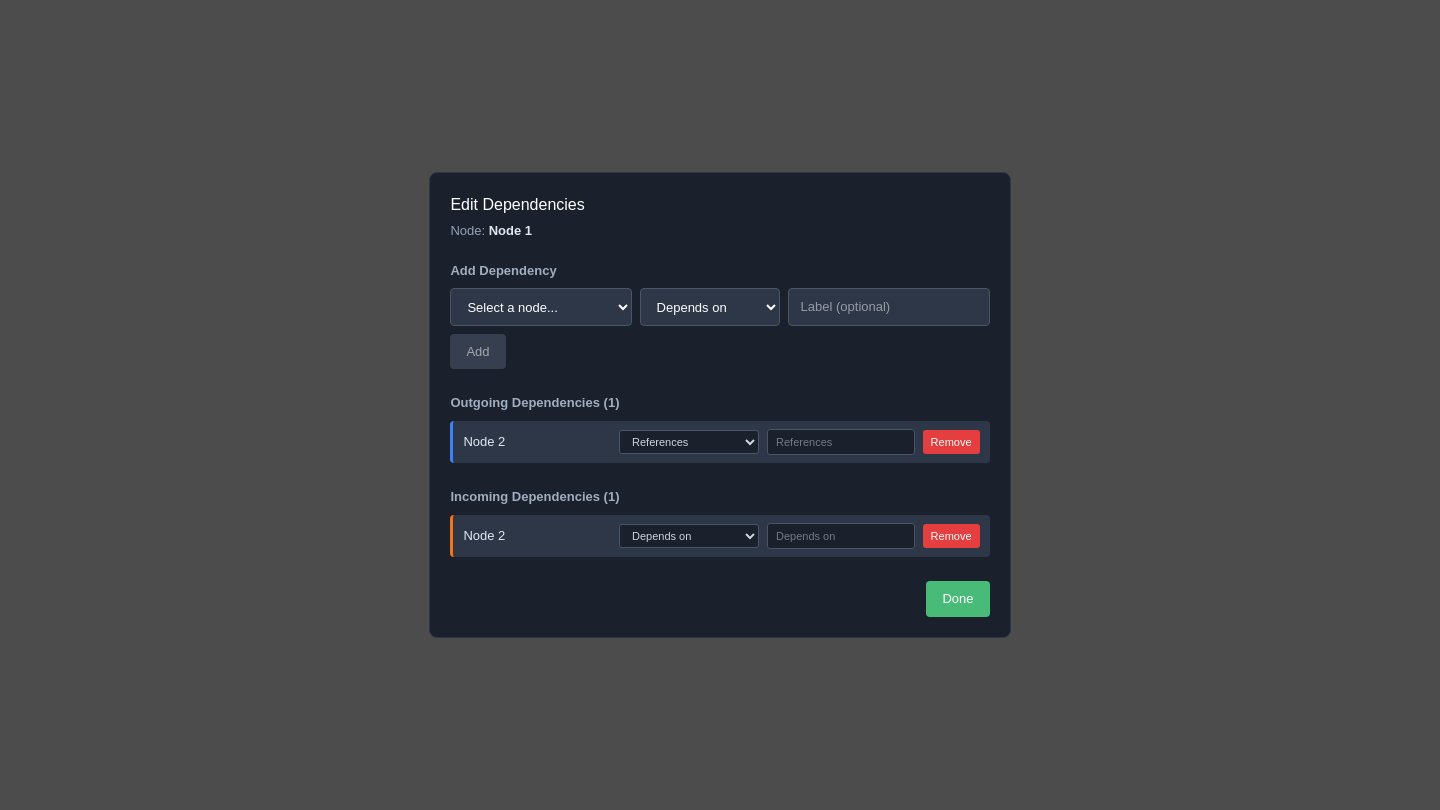
DependencyEditor › blocks relation changes that would create a cycle
The image size is (1440, 810).
Select "Depends on" in the dropdown named "relation to node 2". click: (689, 442)
box: [619, 430, 759, 454]
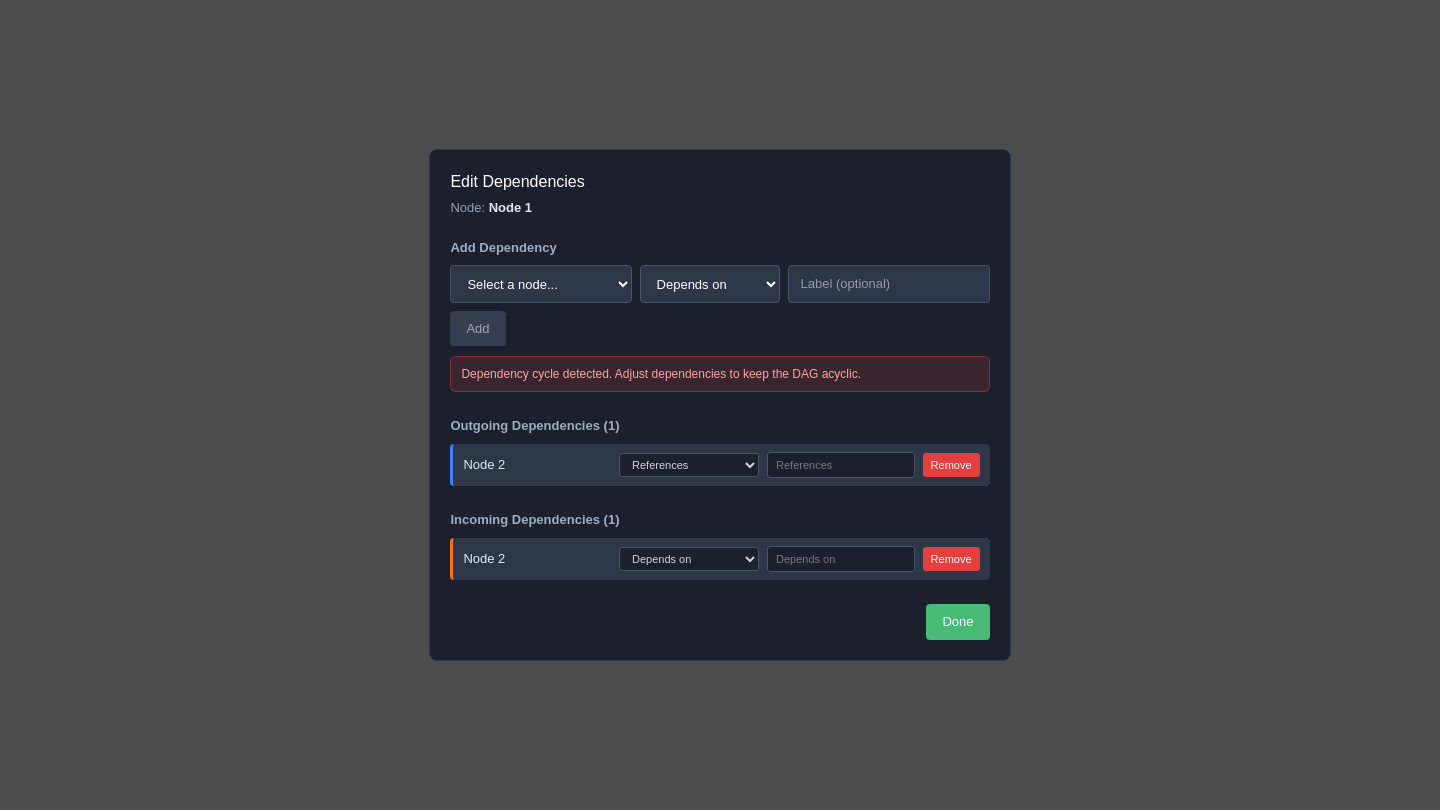
Expected: the message shows "Dependency cycle detected", [461, 367, 861, 381]
